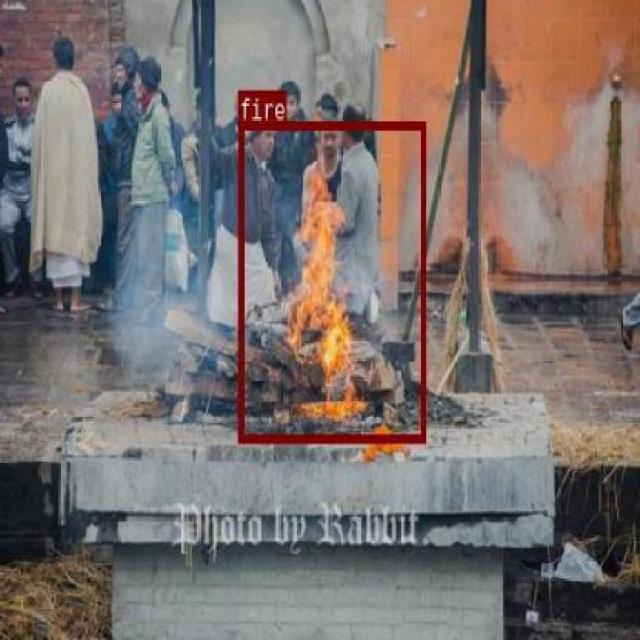Fire: (238, 121, 424, 442)
